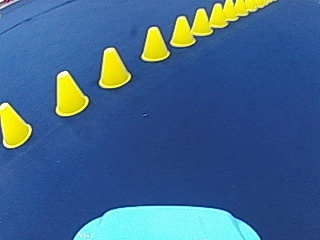cone: (54, 68, 88, 115), (97, 45, 130, 88), (0, 102, 32, 146), (140, 24, 169, 61), (169, 14, 194, 46), (190, 7, 211, 35), (208, 2, 227, 27), (222, 0, 236, 20), (234, 0, 246, 16)
